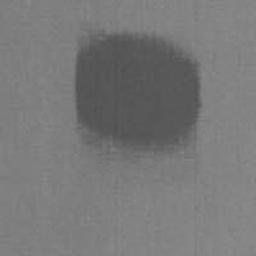Oil spot: (68, 49, 200, 178)
